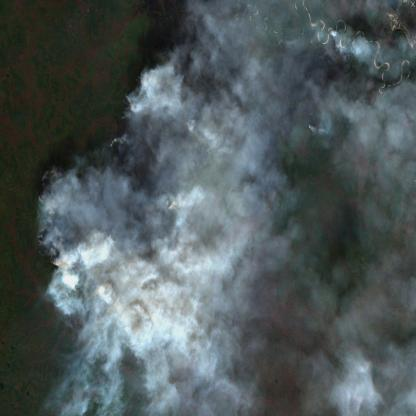fire: (32, 63, 190, 360)
